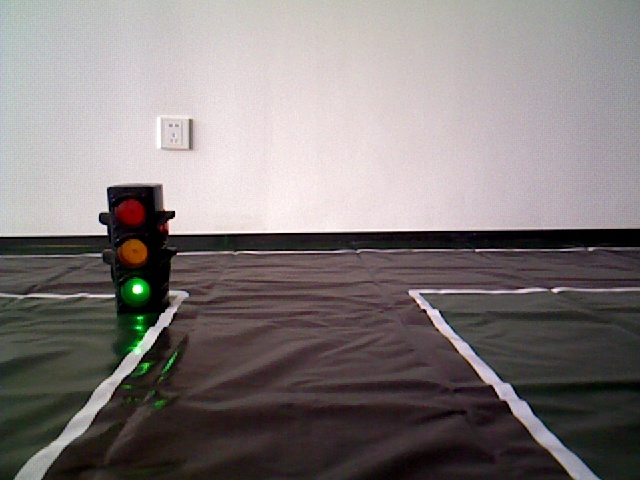green: (109, 190, 165, 304)
